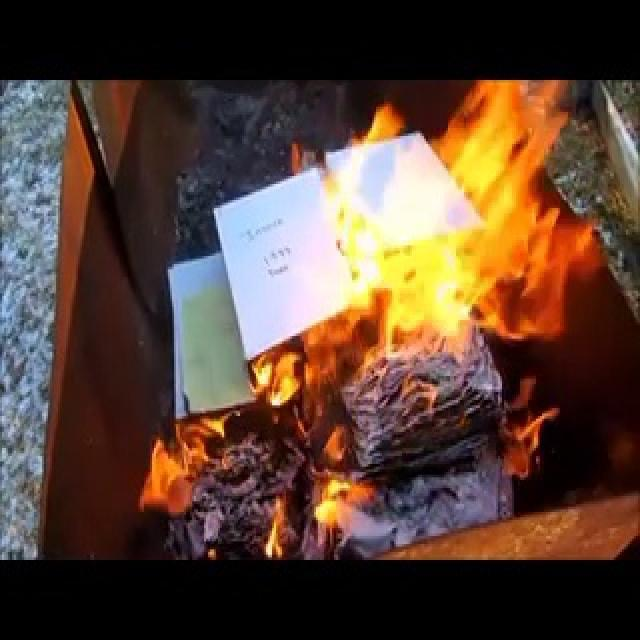fire: (278, 77, 596, 443), (155, 414, 257, 556)
